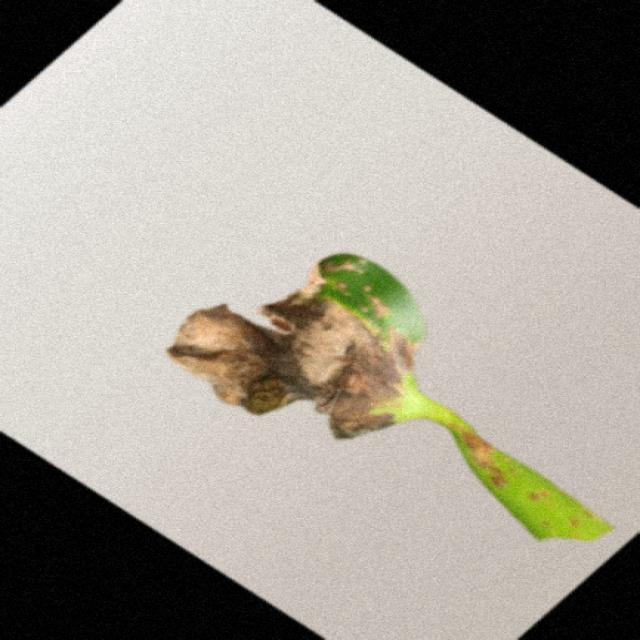daun berpenyakit karat: (169, 255, 612, 541)
